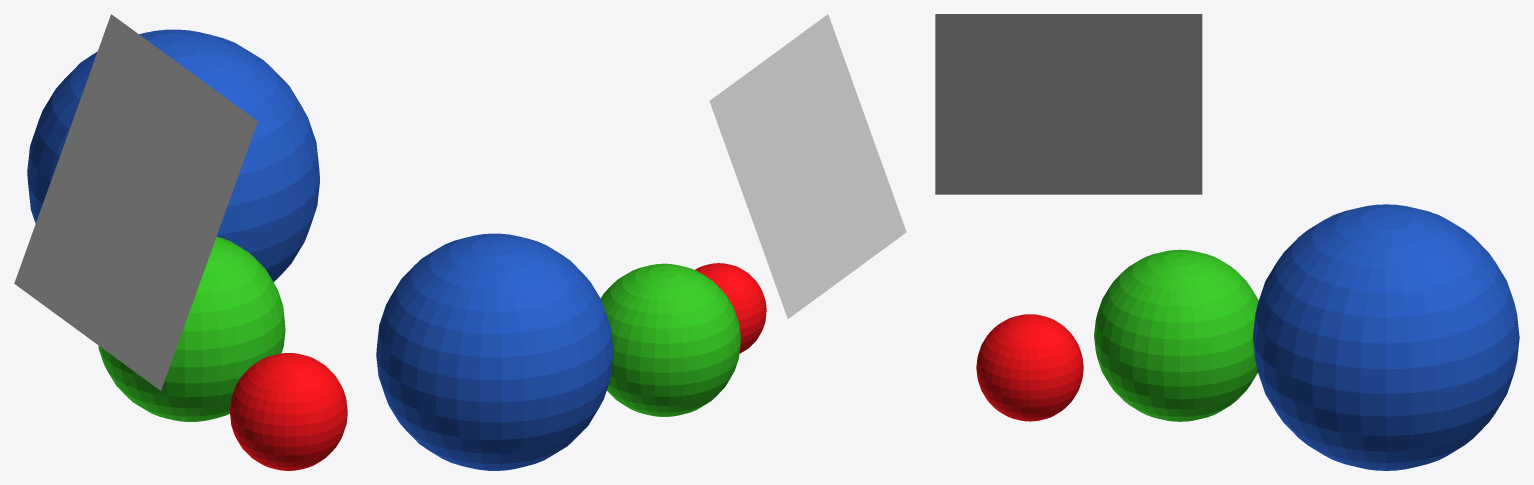
File: Spheres.obj
The picture shows the model from 3 angles, left to right: view 1: azimuth 30°, elevation 25°; view 2: azimuth 150°, elevation 25°; view 3: azimuth 270°, elevation 25°; orthographic projection. The views are drawn at different scales.
Parts seen in each view (by area): view 1: Plane.001, Sphere, Sphere.001, Sphere.002; view 2: Sphere, Plane.001, Sphere.001, Sphere.002; view 3: Sphere, Plane.001, Sphere.001, Sphere.002.
Boxes of the visible parts, box(x1,y1,x2,y2) form: Plane.001: box(14, 14, 257, 390); Sphere: box(27, 29, 319, 281); Sphere.001: box(98, 237, 285, 421); Sphere.002: box(229, 353, 347, 470); Sphere: box(376, 233, 613, 470); Plane.001: box(709, 14, 906, 318); Sphere.001: box(600, 263, 740, 416); Sphere.002: box(695, 263, 766, 353); Sphere: box(1252, 204, 1519, 470); Plane.001: box(935, 14, 1202, 194); Sphere.001: box(1094, 249, 1258, 421); Sphere.002: box(976, 314, 1083, 421).
Size of what is drawn, in the model's own units: 3.05 by 3.08 by 4.38.
